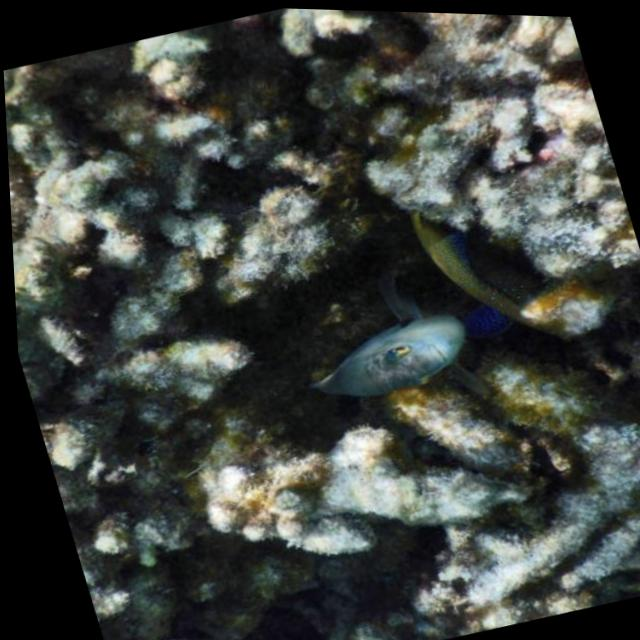Dead Coral: (1, 15, 458, 606), (285, 7, 639, 313), (395, 389, 640, 639), (2, 59, 133, 304)
